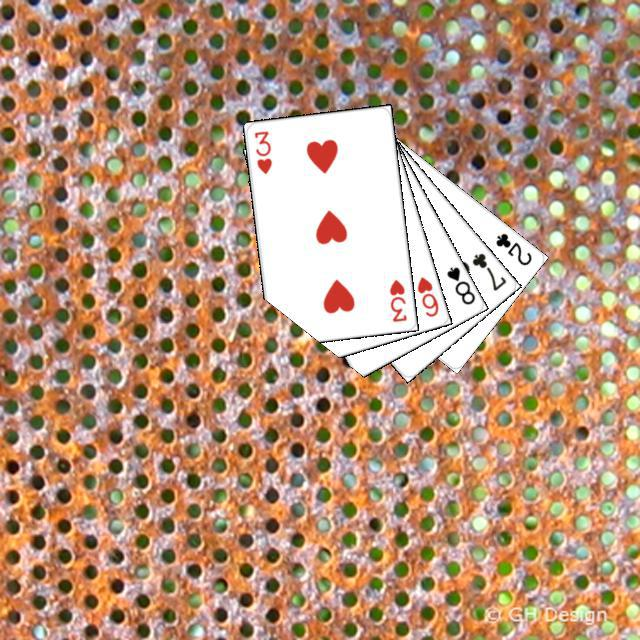2c: (491, 228, 534, 267)
3h: (249, 126, 273, 176), (385, 274, 408, 324)
6h: (412, 272, 440, 319)
7c: (467, 248, 508, 292)
8s: (442, 262, 477, 307)
